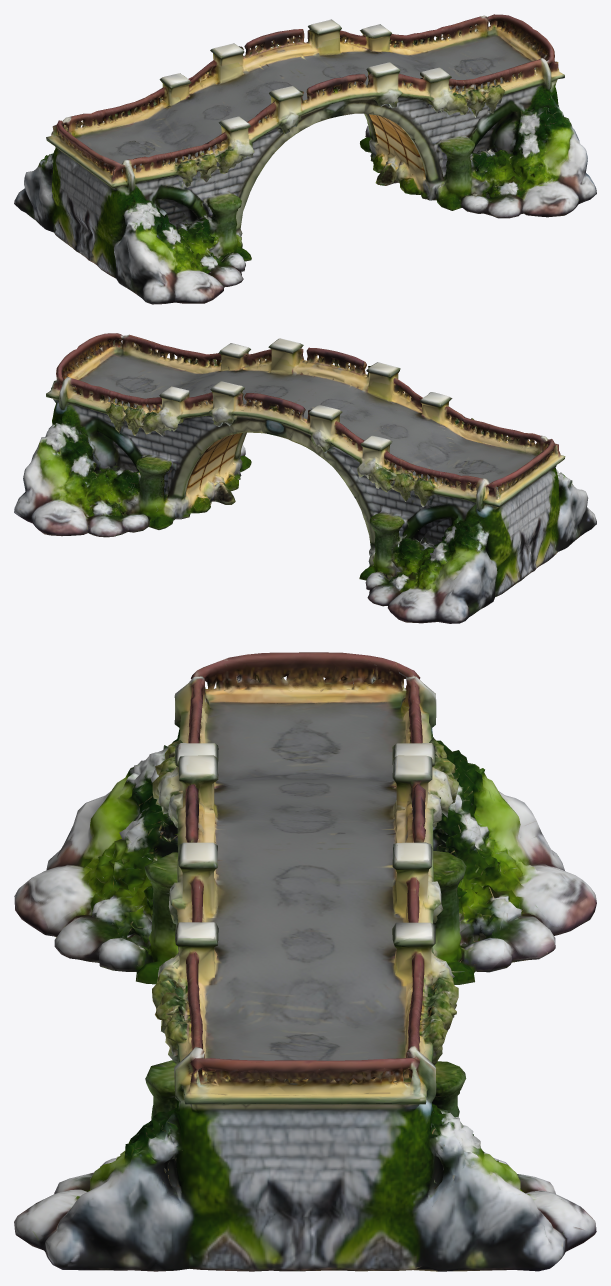
File: bridge.glb
3 renders of one model, top to bottom at view 1: azimuth 30°, elevation 25°; view 2: azimuth 150°, elevation 25°; view 3: azimuth 270°, elevation 25°, orthographic. The views are drawn at different scales.
Bounding box in the file's own units: 1.92 × 0.5816 × 1.15.
1 material, 1 textured.
